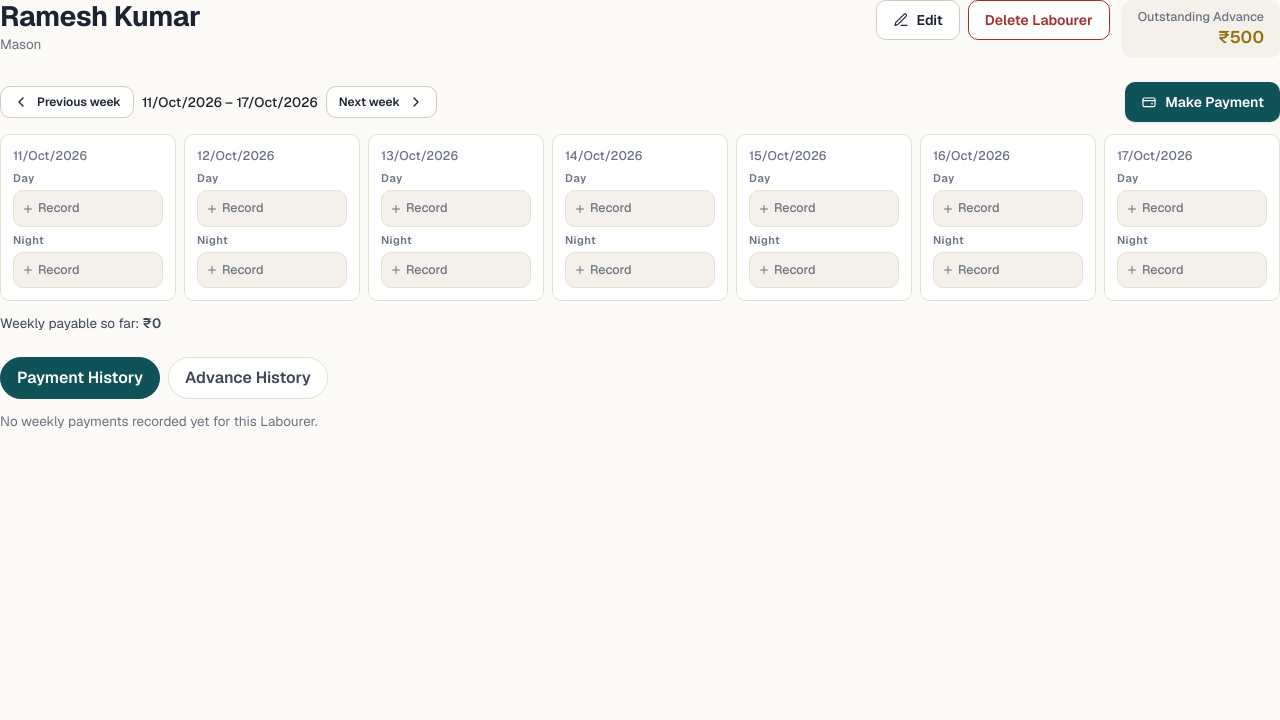
Test: LabourerDetailClient › opens the attendance modal for a day with no existing entry, pre-filled with that date
Click the 1st button "Record". click: [88, 208]
box: [13,190,163,226]
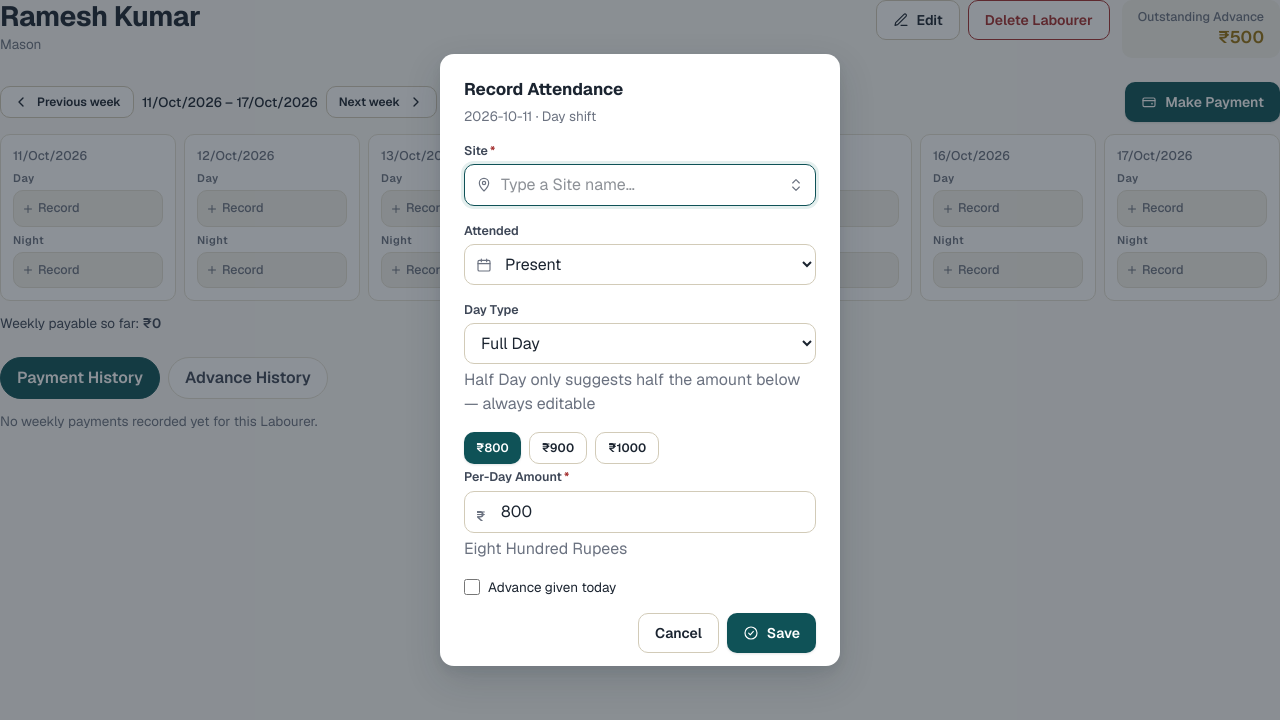
Now the dialog "Record Attendance" is shown, box [440,54,840,666]
